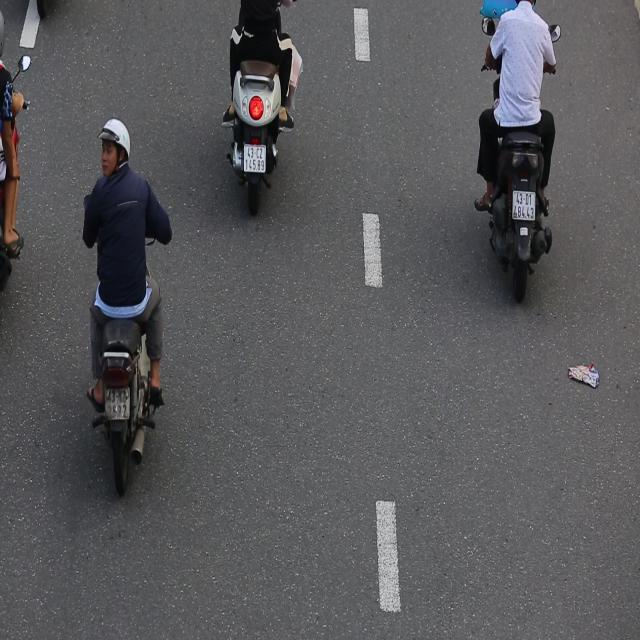motorbike: (70, 82, 190, 503)
